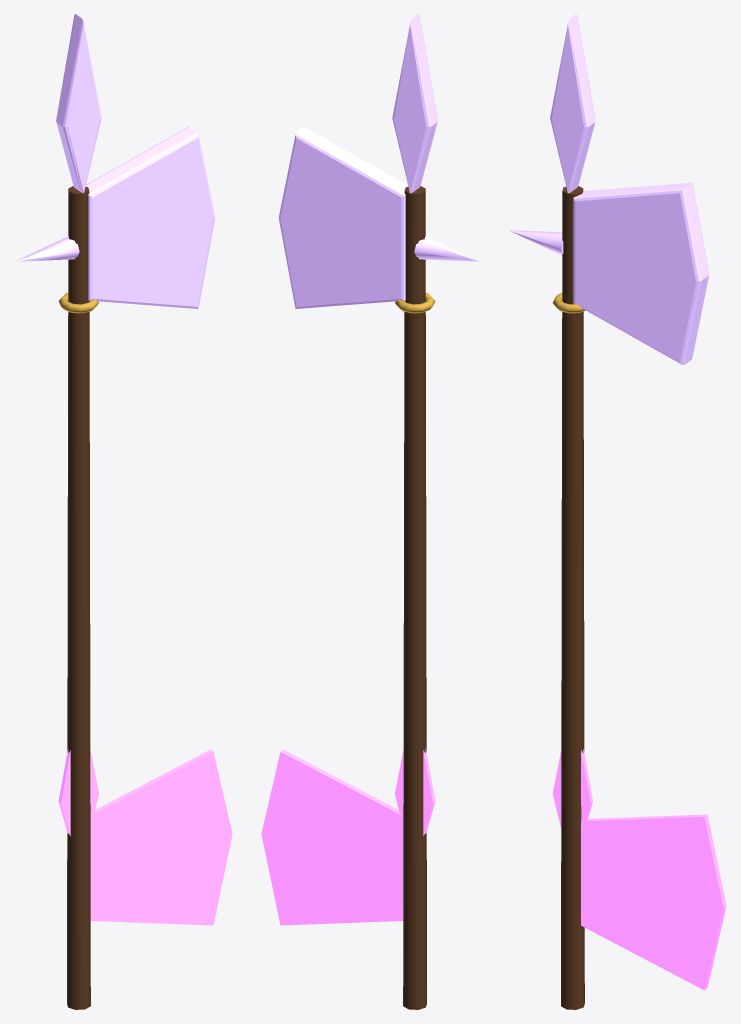
Rendered from spear_f1_ab455d34.glb.
3 views of the same model, side by side, from view 1: azimuth 30°, elevation 25°; view 2: azimuth 150°, elevation 25°; view 3: azimuth 330°, elevation 25° (orthographic).
Visible parts, largest first — view 1: m4_ow80_, m2_, m0_ow80_, m1_; view 2: m4_ow80_, m2_, m0_ow80_, m1_; view 3: m4_ow80_, m2_, m0_ow80_, m1_.
Boxes of the visible parts, x1,y1,x2,y2 form: m4_ow80_: [15, 14, 215, 308]; m2_: [90, 749, 232, 925]; m0_ow80_: [67, 186, 90, 1009]; m1_: [58, 748, 98, 836]; m4_ow80_: [278, 14, 478, 308]; m2_: [261, 749, 403, 925]; m0_ow80_: [403, 186, 426, 1009]; m1_: [395, 748, 435, 836]; m4_ow80_: [509, 14, 709, 364]; m2_: [581, 814, 726, 990]; m0_ow80_: [561, 186, 584, 1009]; m1_: [552, 749, 592, 827].
Size of the model in its own units: 0.8064 by 3.52 by 0.1255.
